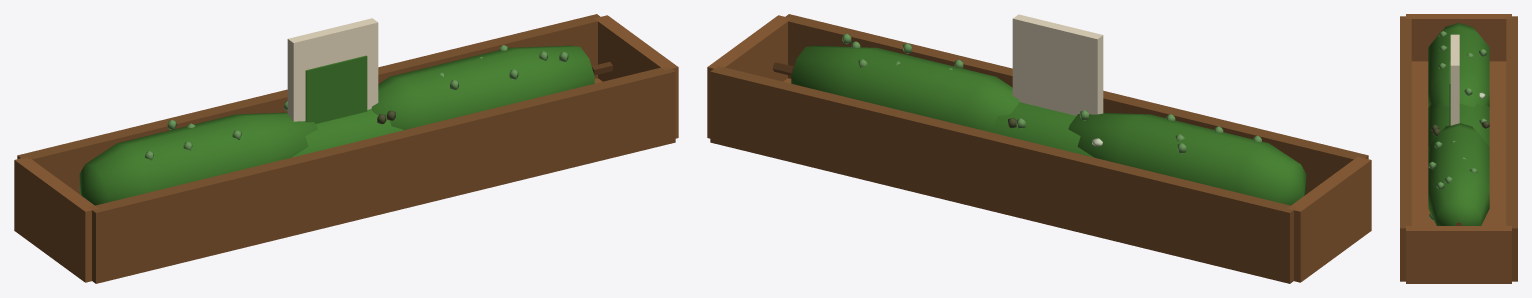
Rendered from Veg_Cucumber.fbx.
3 views of the same model, side by side, from view 1: azimuth 30°, elevation 25°; view 2: azimuth 150°, elevation 25°; view 3: azimuth 270°, elevation 25° (orthographic). The views are drawn at different scales.
Parts seen in each view (by area): view 1: Veg_Cucumber__Stack, Veg_Cucumber__Seed, Veg_Cucumber; view 2: Veg_Cucumber__Stack, Veg_Cucumber__Seed, Veg_Cucumber; view 3: Veg_Cucumber__Stack, Veg_Cucumber, Veg_Cucumber__Seed, Veg_Cucumber__Rotten.
Part boxes in pixels (x1,y1,x2,y2): Veg_Cucumber__Stack: (14, 14, 678, 283); Veg_Cucumber__Seed: (287, 18, 378, 123); Veg_Cucumber: (292, 109, 403, 157); Veg_Cucumber__Stack: (707, 14, 1371, 283); Veg_Cucumber__Seed: (1012, 14, 1103, 115); Veg_Cucumber: (982, 102, 1093, 157); Veg_Cucumber__Stack: (1400, 14, 1517, 283); Veg_Cucumber: (1428, 103, 1489, 146); Veg_Cucumber__Seed: (1449, 34, 1459, 125); Veg_Cucumber__Rotten: (1431, 92, 1489, 136).
Size of the model in its own units: 0.35 by 0.09 by 0.0805.
